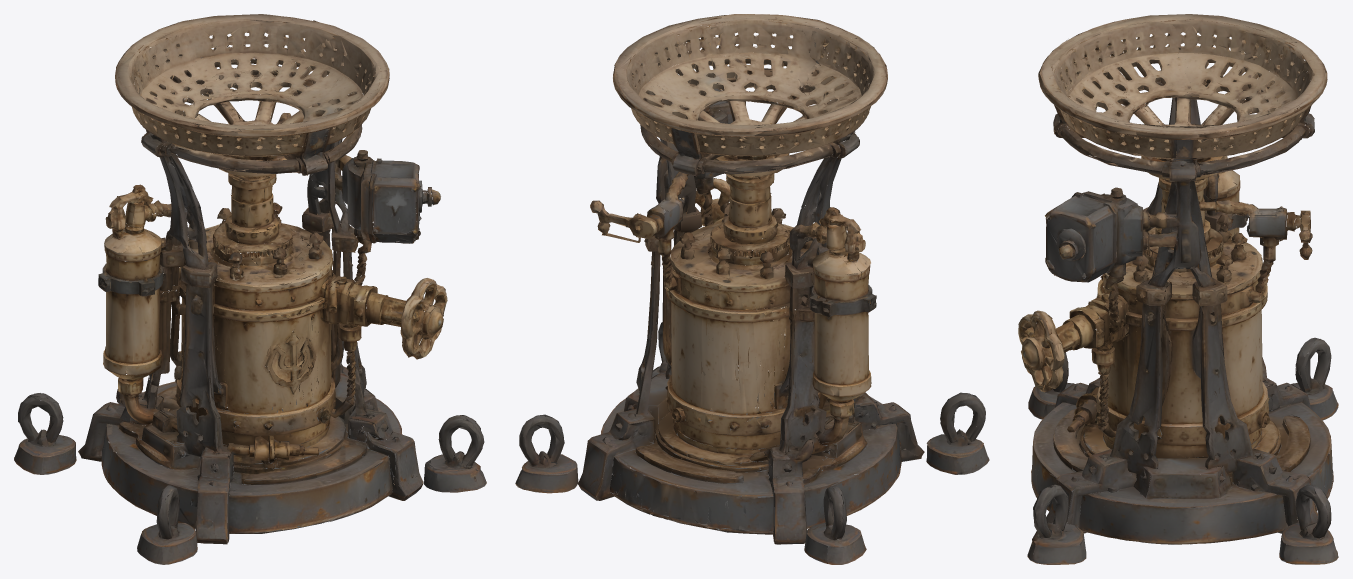
Rendered from burner_replacement.glb.
3 renders of one model, left to right at view 1: azimuth 30°, elevation 25°; view 2: azimuth 150°, elevation 25°; view 3: azimuth 270°, elevation 25°, orthographic. The views are drawn at different scales.
Parts seen in each view (by area): view 1: material; view 2: material; view 3: material.
Boxes of the visible parts, x1,y1,x2,y2 form: material: [14, 14, 486, 564]; material: [515, 14, 989, 564]; material: [1018, 14, 1338, 564].
Size of the model in its own units: 0.7169 by 0.8206 by 0.5764.
1 material, 1 textured.
